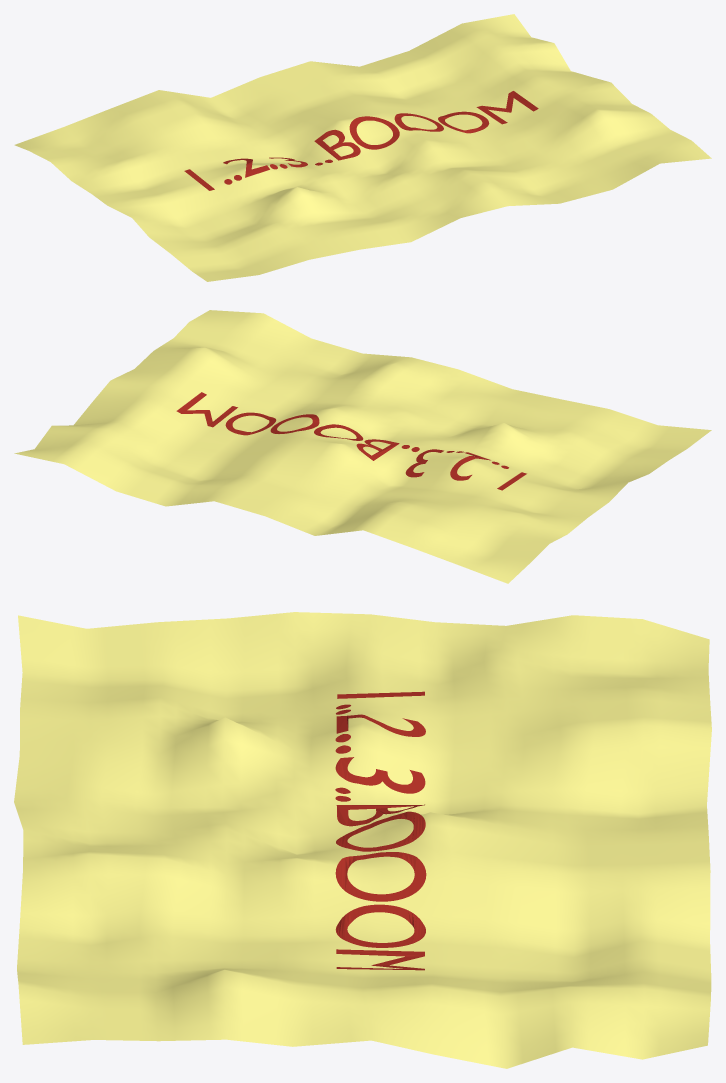
File: papertext2.fbx
The picture shows the model from 3 angles, top to bottom: view 1: azimuth 30°, elevation 25°; view 2: azimuth 150°, elevation 25°; view 3: azimuth 270°, elevation 25°; orthographic projection. The views are drawn at different scales.
Visible parts, largest first — view 1: Plane, Text; view 2: Plane, Text; view 3: Plane, Text.
Boxes of the visible parts, x1=… form: Plane: x1=14, y1=14, x2=711, y2=281; Text: x1=184, y1=91, x2=538, y2=190; Plane: x1=14, y1=310, x2=711, y2=583; Text: x1=176, y1=392, x2=526, y2=490; Plane: x1=14, y1=612, x2=711, y2=1068; Text: x1=335, y1=691, x2=426, y2=970.
Bounding box in the file's own units: 134 × 9.14 × 91.91.
